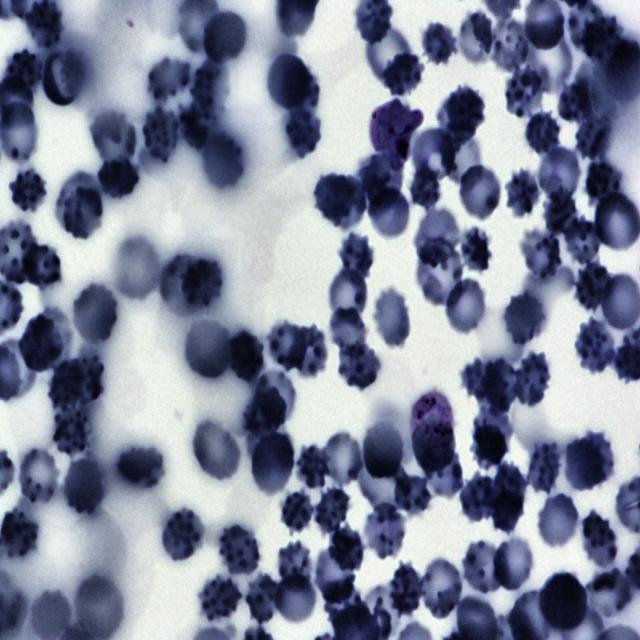red blood cell: (197, 125, 248, 194), (415, 238, 465, 308), (190, 416, 242, 482), (248, 429, 297, 496), (70, 281, 119, 346), (540, 570, 588, 636), (40, 45, 89, 108), (417, 556, 464, 621), (182, 320, 232, 381), (157, 254, 206, 316), (360, 418, 407, 482), (15, 444, 62, 507), (536, 145, 583, 208), (18, 312, 65, 375), (525, 29, 572, 91), (111, 440, 166, 492), (116, 238, 162, 300), (62, 455, 107, 518), (456, 162, 504, 221), (312, 545, 358, 606), (460, 538, 508, 596), (318, 430, 364, 490), (367, 183, 413, 242), (582, 570, 636, 620), (371, 286, 413, 350), (443, 278, 489, 336), (202, 7, 249, 63), (190, 57, 231, 121), (362, 504, 408, 561), (366, 24, 412, 81), (491, 534, 536, 592), (265, 52, 310, 110), (54, 168, 98, 227), (312, 172, 360, 226), (272, 571, 318, 627), (328, 265, 370, 326), (216, 523, 262, 578), (502, 65, 547, 121), (415, 208, 458, 266), (412, 420, 458, 474), (160, 509, 204, 565), (336, 339, 382, 392), (282, 105, 324, 163), (286, 324, 330, 379), (574, 319, 617, 375), (519, 226, 562, 282), (443, 85, 486, 141), (359, 152, 403, 206), (327, 305, 370, 360), (90, 112, 136, 162), (266, 319, 309, 372), (504, 293, 546, 347), (564, 438, 606, 492), (63, 186, 104, 241), (198, 574, 242, 625), (512, 352, 552, 408), (412, 127, 454, 180), (456, 10, 494, 68), (20, 240, 64, 290), (243, 386, 287, 436), (571, 262, 615, 312), (488, 16, 528, 71), (540, 494, 579, 550), (492, 466, 526, 530), (580, 510, 620, 564), (255, 372, 295, 426), (244, 570, 283, 625), (577, 431, 616, 486), (52, 406, 94, 456), (422, 448, 464, 498), (525, 440, 563, 495), (482, 358, 520, 413), (2, 48, 42, 99), (276, 540, 315, 592), (460, 358, 505, 403), (143, 106, 179, 162), (459, 475, 500, 524), (337, 230, 376, 281), (388, 561, 424, 616), (227, 328, 263, 383), (93, 158, 141, 199), (522, 110, 562, 159), (182, 259, 222, 308), (472, 406, 514, 451), (581, 16, 623, 60), (146, 59, 191, 100), (580, 166, 622, 208), (280, 488, 316, 535), (384, 53, 425, 94), (542, 186, 577, 234), (557, 77, 594, 122), (10, 168, 48, 211), (574, 117, 612, 160), (409, 162, 442, 211), (330, 526, 365, 572), (459, 225, 493, 272), (507, 169, 540, 217), (471, 424, 507, 468), (565, 219, 600, 264), (422, 20, 456, 66), (392, 476, 433, 514), (316, 487, 349, 532), (297, 445, 328, 490)
ring: (47, 356, 107, 413), (409, 390, 452, 453)
trophozoite: (368, 98, 423, 164)
